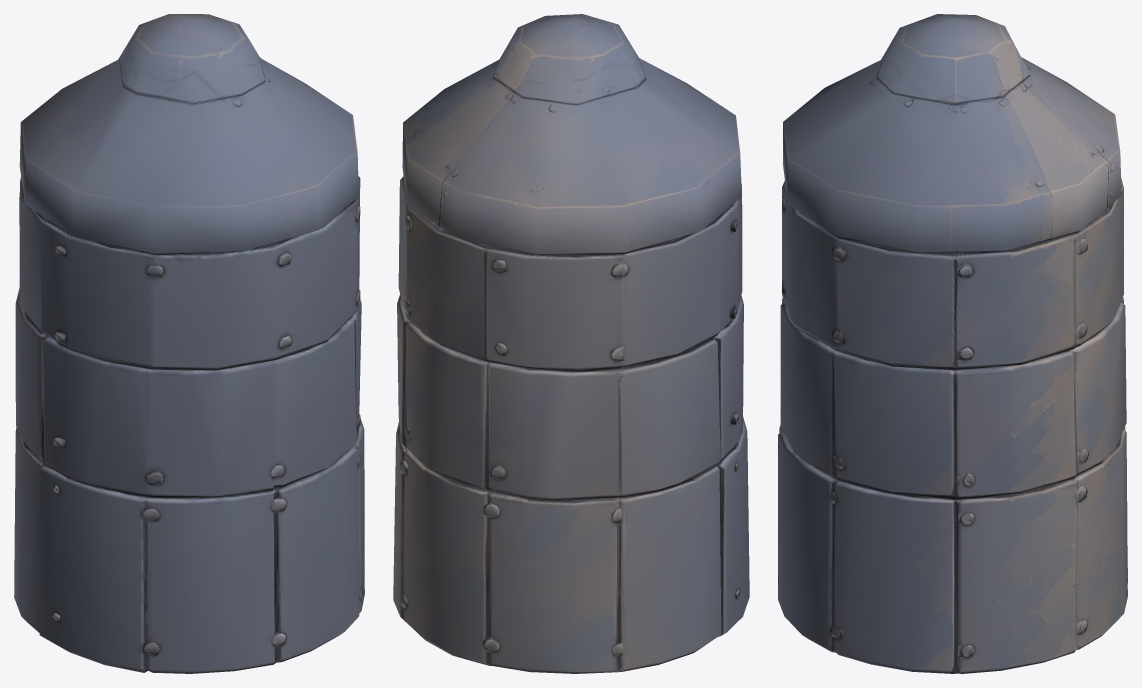
3 renders of one model, left to right at view 1: azimuth 30°, elevation 25°; view 2: azimuth 150°, elevation 25°; view 3: azimuth 270°, elevation 25°, orthographic.
Parts seen in each view (by area): view 1: tripo_node_2977de85-2420-4d26-b15d-7f18096f1140; view 2: tripo_node_2977de85-2420-4d26-b15d-7f18096f1140; view 3: tripo_node_2977de85-2420-4d26-b15d-7f18096f1140.
Part boxes in pixels (<box>): tripo_node_2977de85-2420-4d26-b15d-7f18096f1140: <box>14,14,364,673</box>; tripo_node_2977de85-2420-4d26-b15d-7f18096f1140: <box>393,14,749,673</box>; tripo_node_2977de85-2420-4d26-b15d-7f18096f1140: <box>778,14,1127,673</box>.
Size of the model in its own units: 0.5488 by 0.998 by 0.5449.
1 material, 1 textured.
